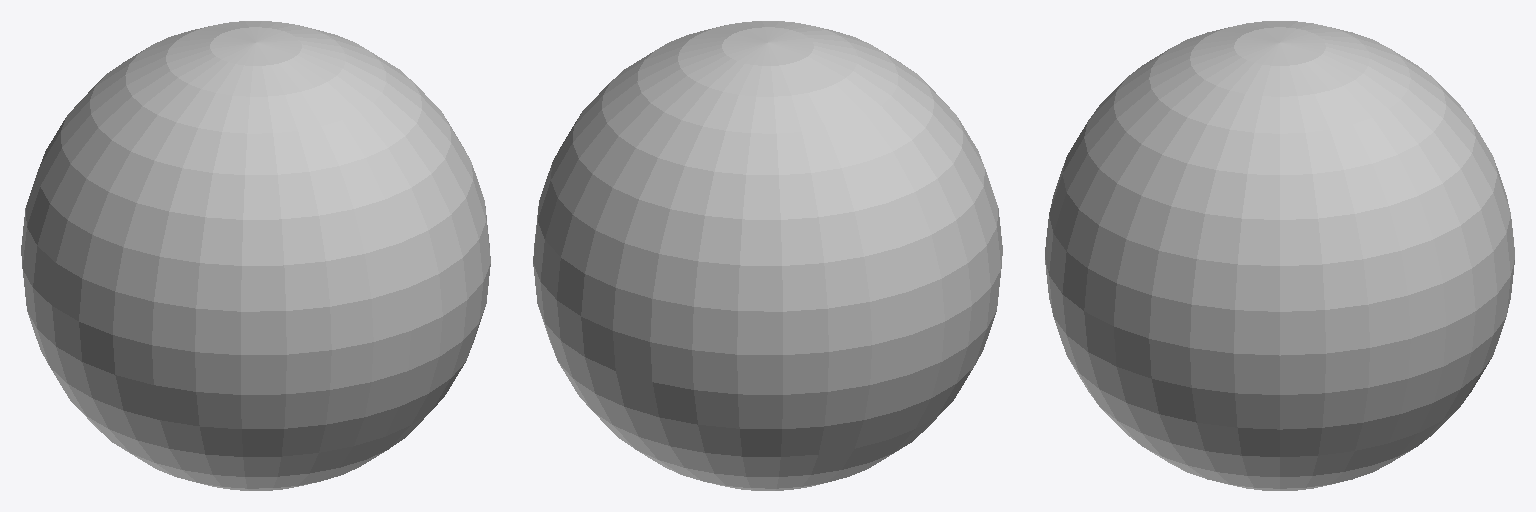
File: sol.obj
The picture shows the model from 3 angles: view 1: azimuth 30°, elevation 25°; view 2: azimuth 150°, elevation 25°; view 3: azimuth 270°, elevation 25°; orthographic projection.
Visible parts, largest first — view 1: Sphere_Material.001_0; view 2: Sphere_Material.001_0; view 3: Sphere_Material.001_0.
Boxes of the visible parts, <box> form: Sphere_Material.001_0: <box>21,21,490,490</box>; Sphere_Material.001_0: <box>533,21,1002,490</box>; Sphere_Material.001_0: <box>1045,21,1514,490</box>.
Bounding box in the file's own units: 8.32 × 8.32 × 8.32.